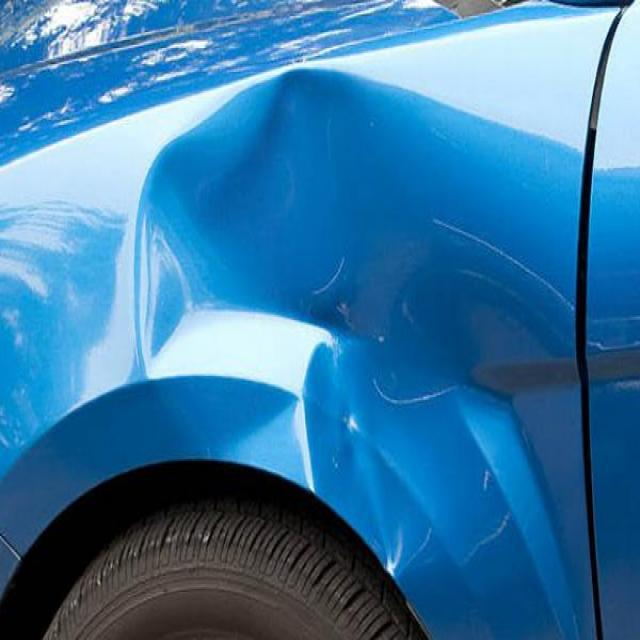dent: (103, 57, 640, 638)
